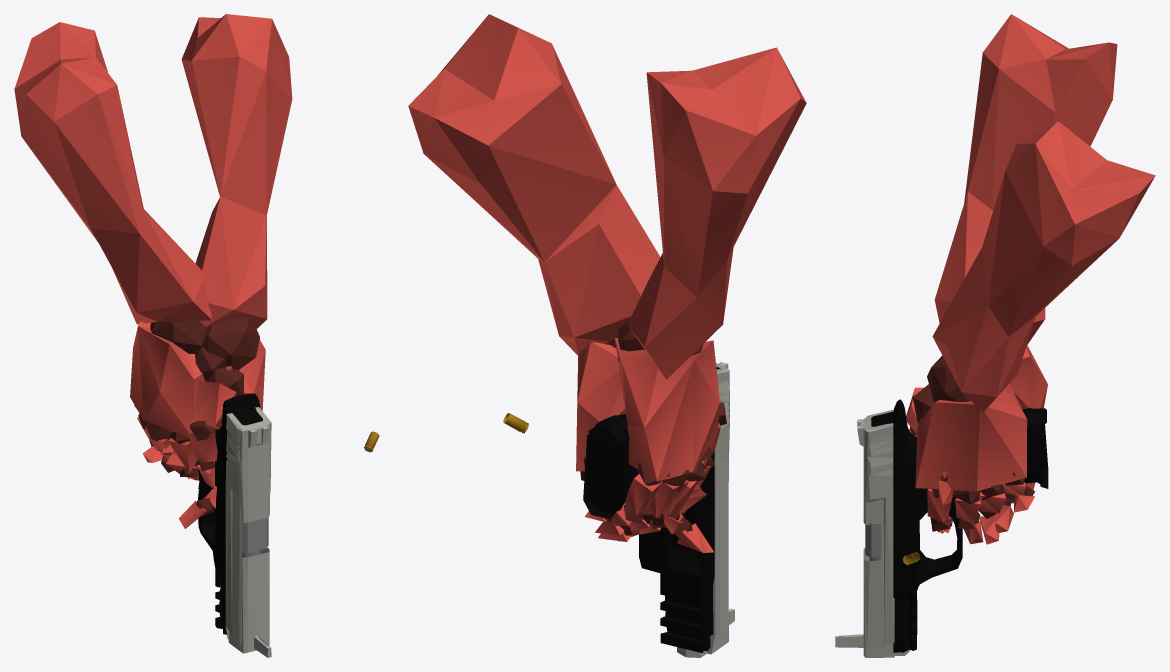
The model's file is M&P9shootLowP_000208.obj.
The picture shows the model from 3 angles, left to right: view 1: azimuth 30°, elevation 25°; view 2: azimuth 150°, elevation 25°; view 3: azimuth 270°, elevation 25°; orthographic projection. The views are drawn at different scales.
Visible parts, largest first — view 1: Beta_Surface.001_Beta_Surface.002, slide_平面.002, Beta_Joints.001_Beta_Joints.002, triger_平面.001; view 2: Beta_Surface.001_Beta_Surface.002, triger_平面.001, slide_平面.002, Beta_Joints.001_Beta_Joints.002; view 3: Beta_Surface.001_Beta_Surface.002, triger_平面.001, slide_平面.002, Beta_Joints.001_Beta_Joints.002.
Boxes of the visible parts, <box> form: Beta_Surface.001_Beta_Surface.002: <box>14,14,292,528</box>; slide_平面.002: <box>225,407,271,657</box>; Beta_Joints.001_Beta_Joints.002: <box>133,317,259,516</box>; triger_平面.001: <box>197,393,268,634</box>; Beta_Surface.001_Beta_Surface.002: <box>408,14,806,553</box>; triger_平面.001: <box>587,414,714,652</box>; slide_平面.002: <box>677,362,734,657</box>; Beta_Joints.001_Beta_Joints.002: <box>580,321,726,541</box>; Beta_Surface.001_Beta_Surface.002: <box>906,14,1155,544</box>; triger_平面.001: <box>865,399,1046,652</box>; slide_平面.002: <box>835,409,910,657</box>; Beta_Joints.001_Beta_Joints.002: <box>910,355,1034,532</box>.
Bounding box in the file's own units: 44.09 × 80.1 × 40.35.
